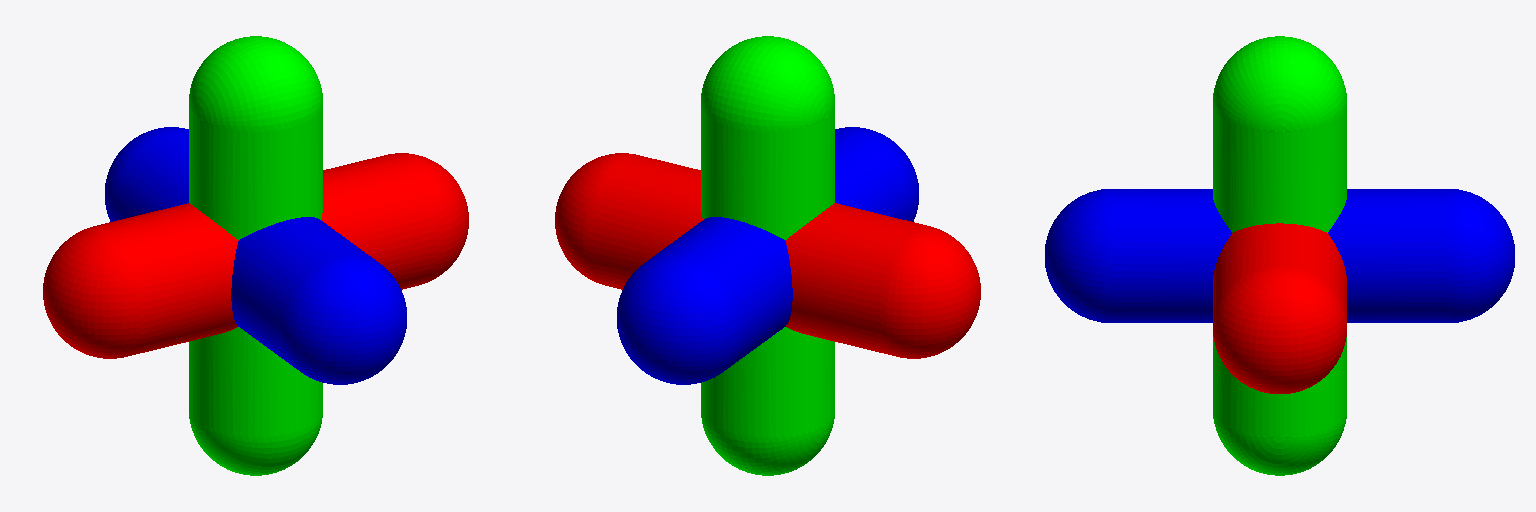
File: jack_colored.obj
The picture shows the model from 3 angles: view 1: azimuth 30°, elevation 25°; view 2: azimuth 150°, elevation 25°; view 3: azimuth 270°, elevation 25°; orthographic projection.
Parts seen in each view (by area): view 1: mesh8, mesh2, mesh0, mesh10, mesh6, mesh3, mesh9, mesh1, mesh4, mesh11, mesh7, mesh5; view 2: mesh8, mesh2, mesh5, mesh10, mesh6, mesh3, mesh9, mesh4, mesh1, mesh11, mesh7, mesh0; view 3: mesh1, mesh4, mesh7, mesh8, mesh9, mesh0, mesh5, mesh10, mesh6, mesh11.
Boxes of the visible parts, x1,y1,x2,y2 form: mesh8: [189, 108, 322, 239]; mesh2: [97, 203, 238, 356]; mesh0: [282, 255, 406, 384]; mesh10: [189, 327, 322, 436]; mesh6: [321, 155, 434, 289]; mesh3: [43, 226, 143, 358]; mesh9: [189, 36, 322, 131]; mesh1: [231, 217, 375, 367]; mesh4: [114, 132, 188, 220]; mesh11: [189, 413, 322, 475]; mesh7: [388, 153, 468, 284]; mesh5: [105, 127, 188, 221]; mesh8: [701, 108, 834, 239]; mesh2: [785, 203, 926, 356]; mesh5: [617, 255, 741, 384]; mesh10: [701, 327, 834, 436]; mesh6: [589, 155, 702, 289]; mesh3: [880, 226, 980, 358]; mesh9: [701, 36, 834, 131]; mesh4: [648, 217, 792, 367]; mesh1: [835, 132, 909, 220]; mesh11: [701, 413, 834, 475]; mesh7: [555, 153, 635, 284]; mesh0: [835, 127, 918, 221]; mesh1: [1112, 189, 1231, 322]; mesh4: [1328, 189, 1447, 322]; mesh7: [1213, 266, 1346, 393]; mesh8: [1213, 108, 1346, 232]; mesh9: [1213, 36, 1346, 131]; mesh0: [1045, 189, 1111, 322]; mesh5: [1448, 189, 1514, 322]; mesh10: [1213, 337, 1346, 436]; mesh6: [1213, 223, 1346, 317]; mesh11: [1213, 413, 1346, 475].
Size of the model in its own units: 0.1749 by 0.1749 by 0.1749.